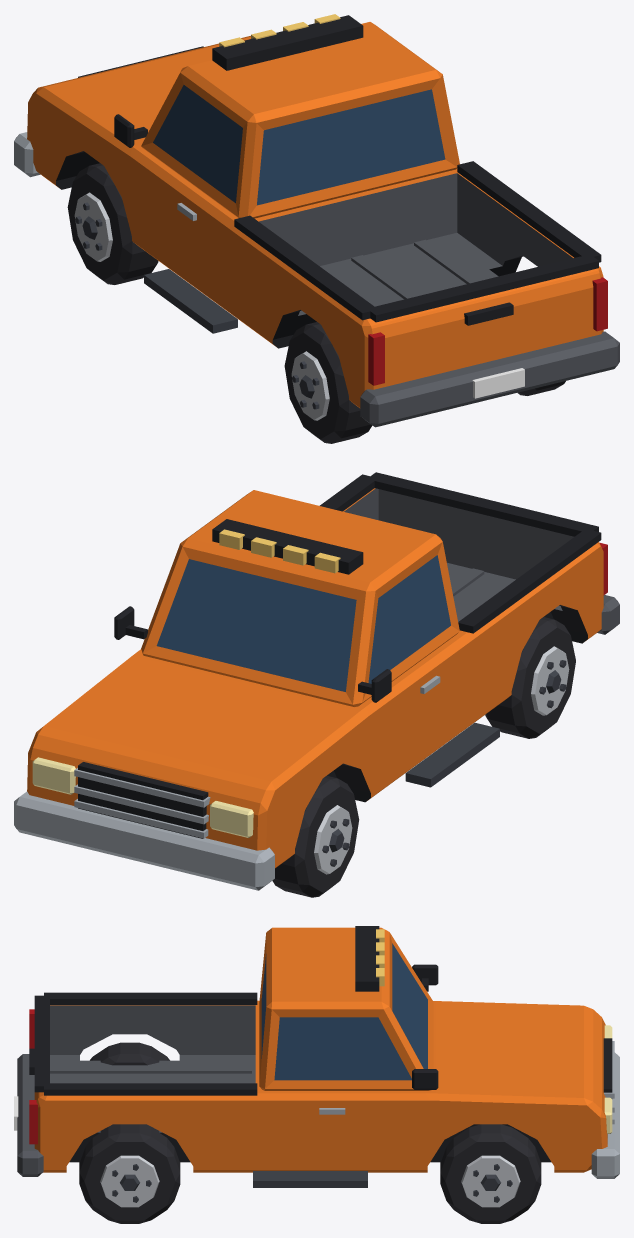
File: Truck_Orange.glb
3 renders of one model, top to bottom at view 1: azimuth 30°, elevation 25°; view 2: azimuth 150°, elevation 25°; view 3: azimuth 270°, elevation 25°, orthographic. The views are drawn at different scales.
Parts seen in each view (by area): view 1: Truck_Orange_Body, Truck_Orange_Wheel_FL, Truck_Orange_Wheel_RL; view 2: Truck_Orange_Body, Truck_Orange_Wheel_RL, Truck_Orange_Wheel_FL; view 3: Truck_Orange_Body, Truck_Orange_Wheel_RR, Truck_Orange_Wheel_FR, Truck_Orange_Wheel_RL.
Boxes of the visible parts, x1,y1,x2,y2 form: Truck_Orange_Body: (14,14,619,427); Truck_Orange_Wheel_FL: (67,163,158,284); Truck_Orange_Wheel_RL: (284,322,372,443); Truck_Orange_Body: (14,472,619,890); Truck_Orange_Wheel_RL: (485,617,575,738); Truck_Orange_Wheel_FL: (272,775,359,897); Truck_Orange_Body: (14,926,619,1187); Truck_Orange_Wheel_RR: (79,1124,180,1223); Truck_Orange_Wheel_FR: (440,1124,541,1223); Truck_Orange_Wheel_RL: (90,1042,169,1065).
Size of the model in its own units: 2.52 by 2.28 by 5.54.
Materials: 1 (1 with a texture image).
